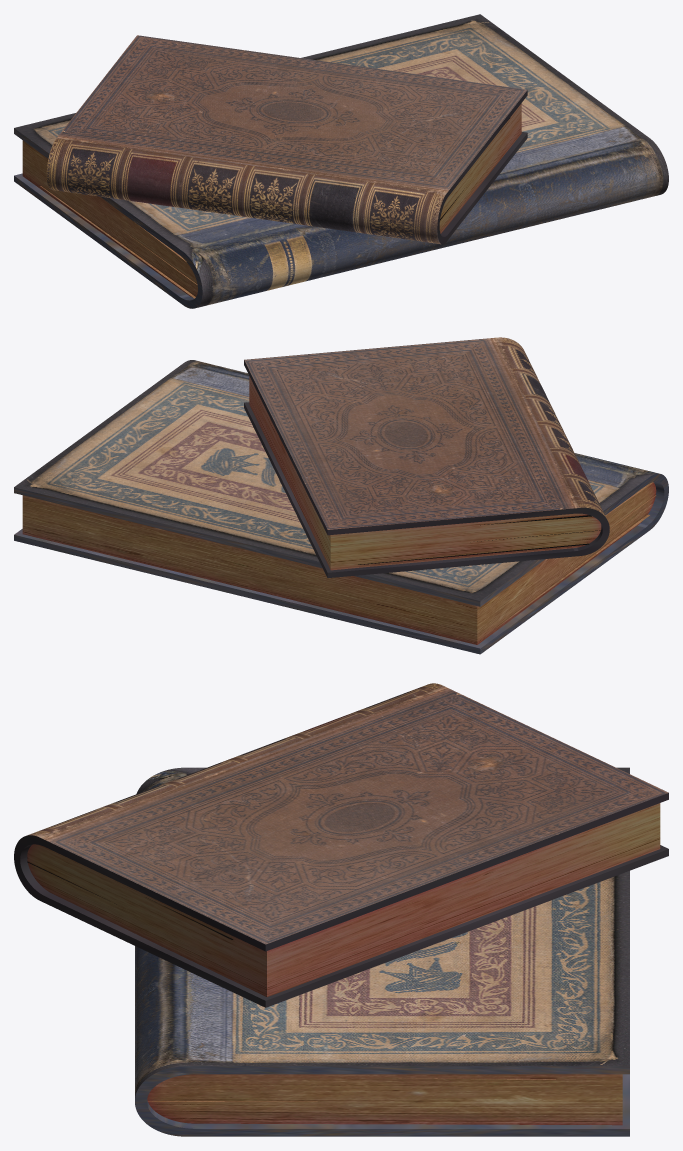
The model's file is books.glb.
3 renders of one model, top to bottom at view 1: azimuth 30°, elevation 25°; view 2: azimuth 150°, elevation 25°; view 3: azimuth 270°, elevation 25°, orthographic. The views are drawn at different scales.
Parts seen in each view (by area): view 1: Cube.001, Cube; view 2: Cube, Cube.001; view 3: Cube.001, Cube.
Part boxes in pixels (x1,y1,x2,y2): Cube.001: (46,35,527,244); Cube: (14,14,668,308); Cube: (14,360,668,654); Cube.001: (244,337,609,577); Cube.001: (14,683,668,1007); Cube: (135,767,629,1136).
Size of the model in its own units: 3.24 by 0.612 by 2.72.
Materials: 4 (4 with a texture image).
